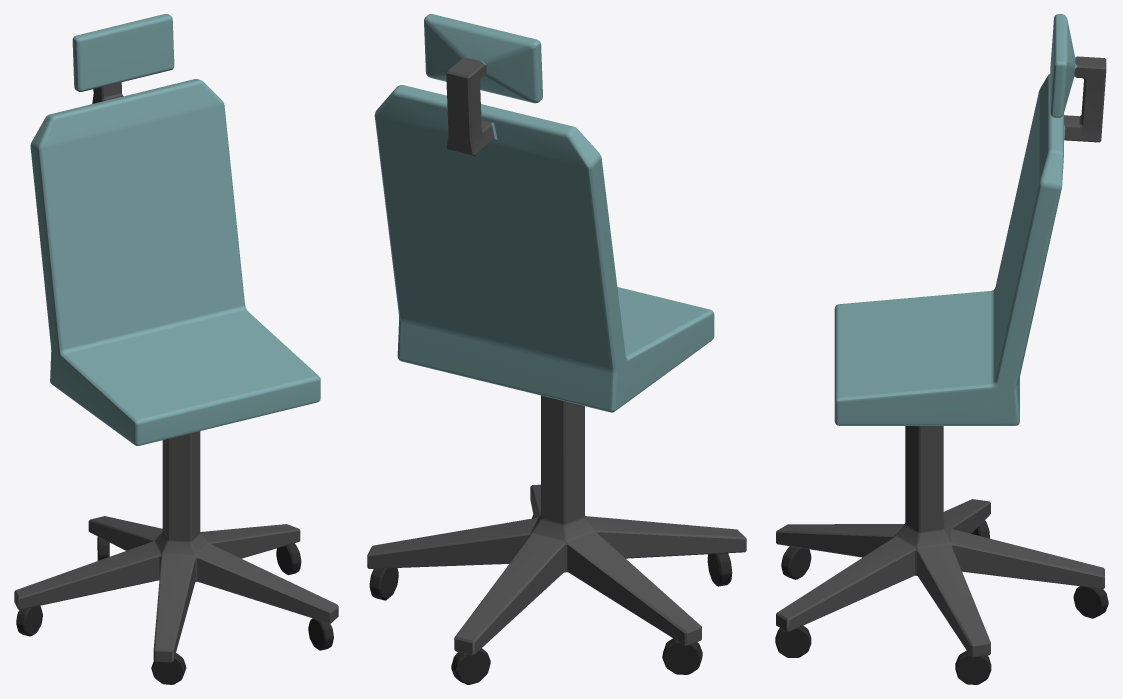
The model's file is chair.fbx.
3 renders of one model, left to right at view 1: azimuth 30°, elevation 25°; view 2: azimuth 150°, elevation 25°; view 3: azimuth 270°, elevation 25°, orthographic. The views are drawn at different scales.
Visible parts, largest first — view 1: Base, Stand, Wheels; view 2: Base, Stand, Wheels; view 3: Base, Stand, Wheels.
Boxes of the visible parts, left/top/right/bottom form: Base: left=30, top=14, right=320, bottom=445; Stand: left=14, top=431, right=338, bottom=662; Wheels: left=16, top=537, right=333, bottom=684; Base: left=374, top=14, right=714, bottom=412; Stand: left=367, top=395, right=746, bottom=655; Wheels: left=369, top=515, right=732, bottom=684; Base: left=834, top=14, right=1106, bottom=425; Stand: left=776, top=426, right=1104, bottom=657; Wheels: left=775, top=520, right=1108, bottom=684.
Size of the model in its own units: 72.34 by 134 by 69.55.
